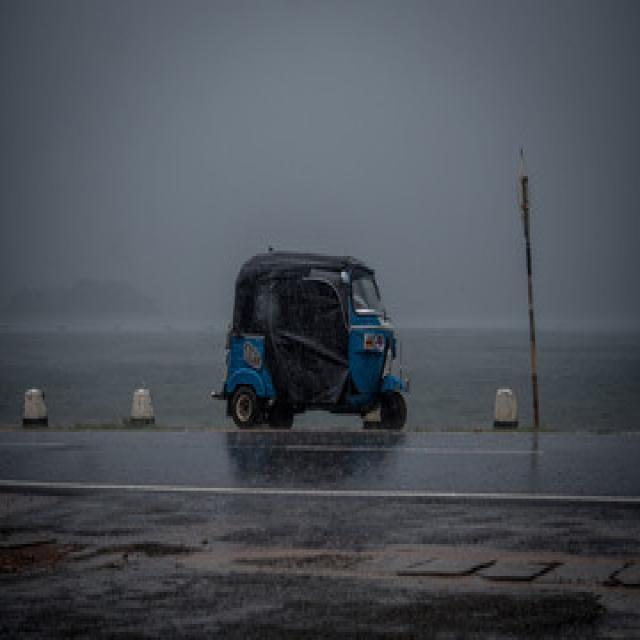three wheeler: (219, 251, 405, 429)
